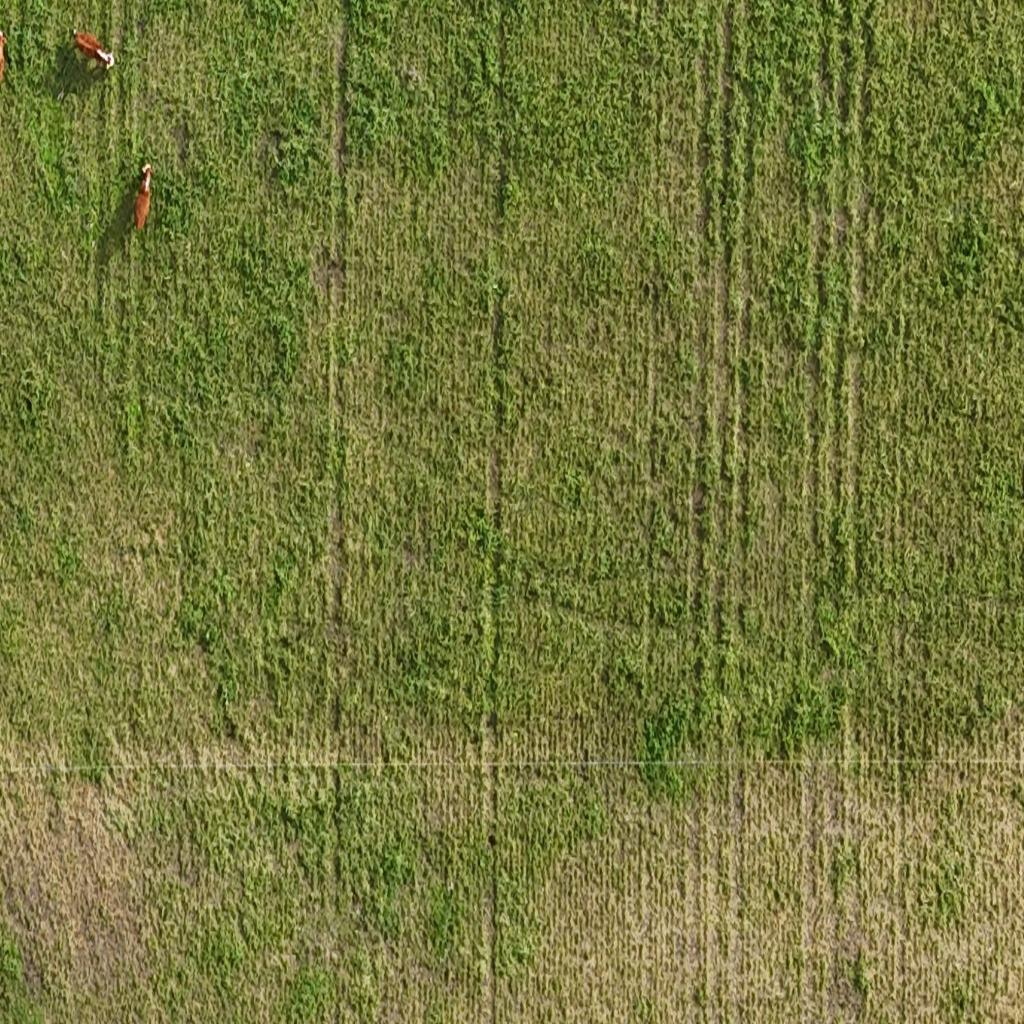cow: (67, 24, 119, 93), (130, 161, 152, 235)
